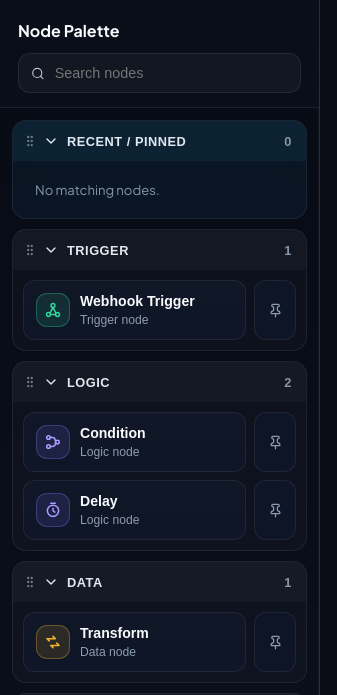
SidebarPalette › filters node items from the pinned search input
Type "external api" into the search field labelled "Search nodes" at (171, 73), box [55,65,288,81]
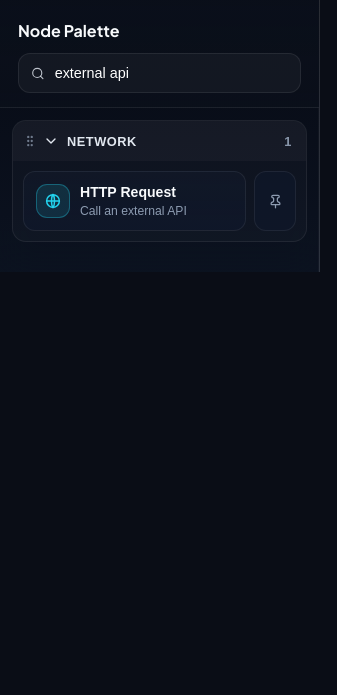
Expected: the button with test id "palette-node-httpRequest" is shown, [23,171,246,231]
Expected: the button with test id "palette-node-condition" is gone
